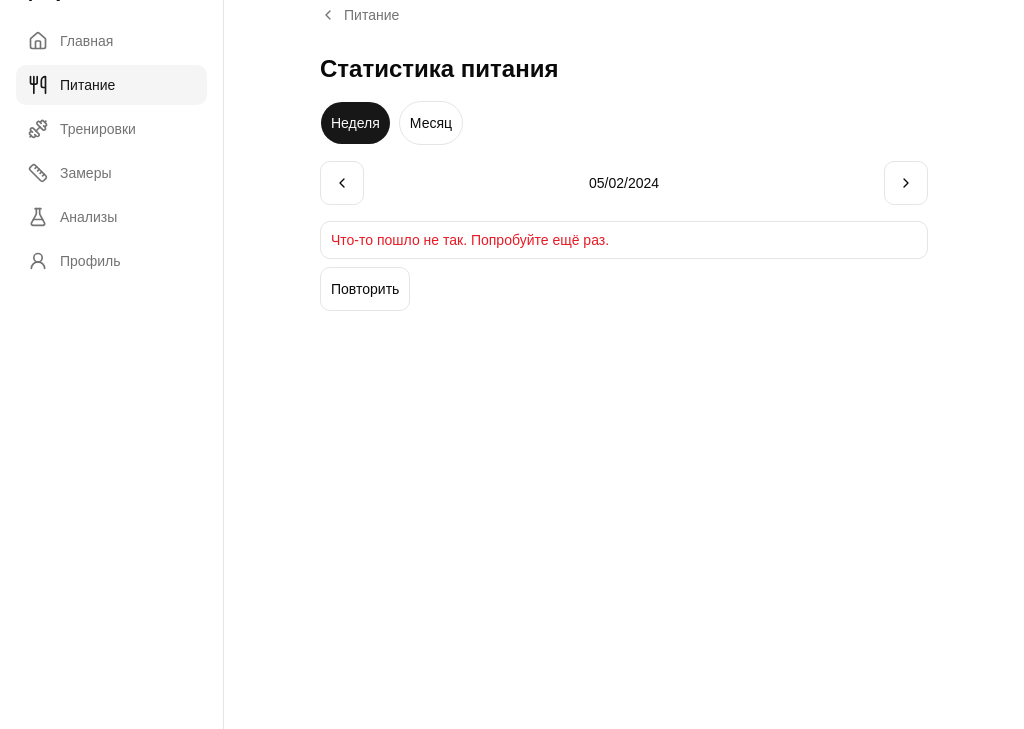
статистика питания › ошибка предлагает повторить запрос; пустые периоды не показывают нулевые средние
Click the button "Повторить": (365, 289) x1=320 y1=267 x2=410 y2=311
(page scrolled)
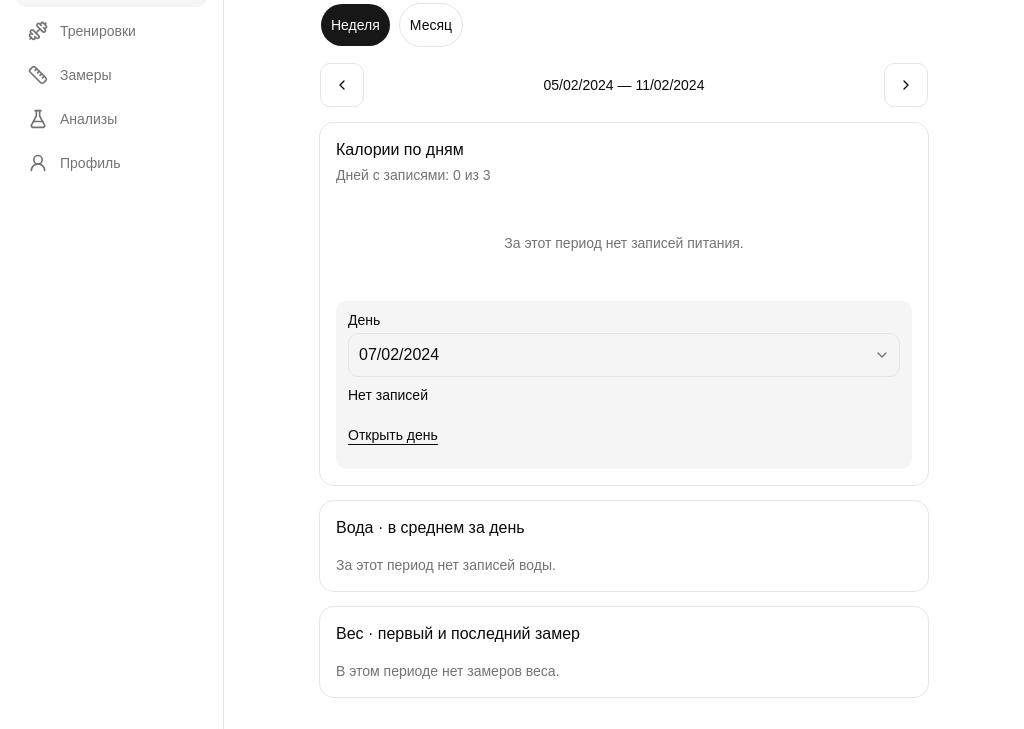
Result: the text "За этот период нет записей питания." is shown at x1=504 y1=235 x2=744 y2=251
Result: the text "За этот период нет записей воды." is shown at x1=336 y1=557 x2=556 y2=573
Result: the text "В этом периоде нет замеров веса." is shown at x1=336 y1=663 x2=560 y2=679
